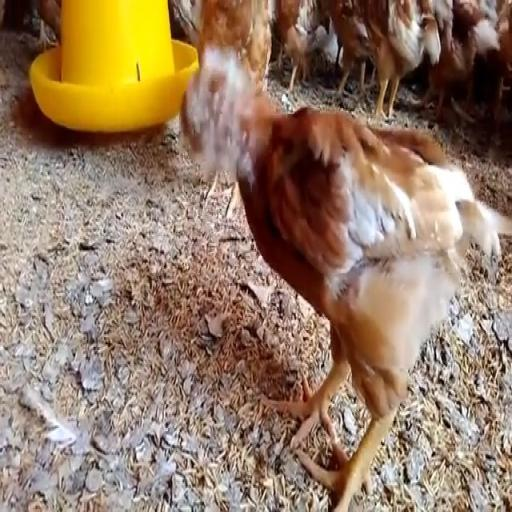disease: (198, 41, 245, 196)
